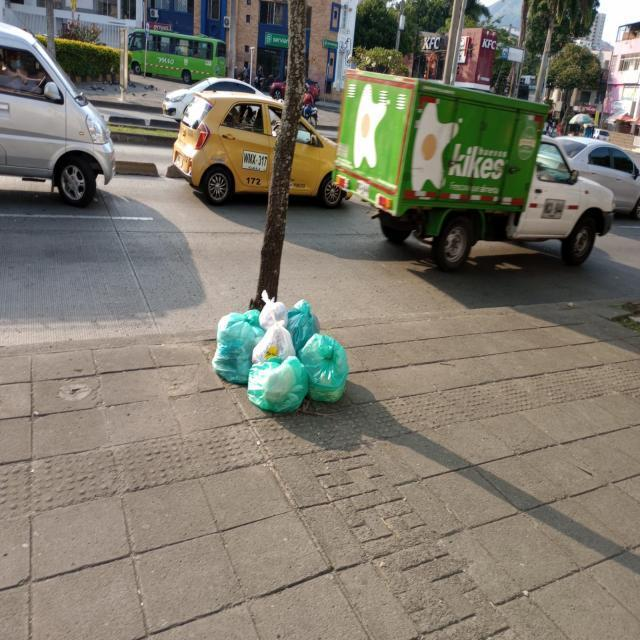Garbage_Bag: (208, 306, 264, 386), (244, 352, 310, 416), (300, 331, 350, 404), (250, 321, 296, 372), (287, 299, 319, 351), (256, 290, 293, 334)
